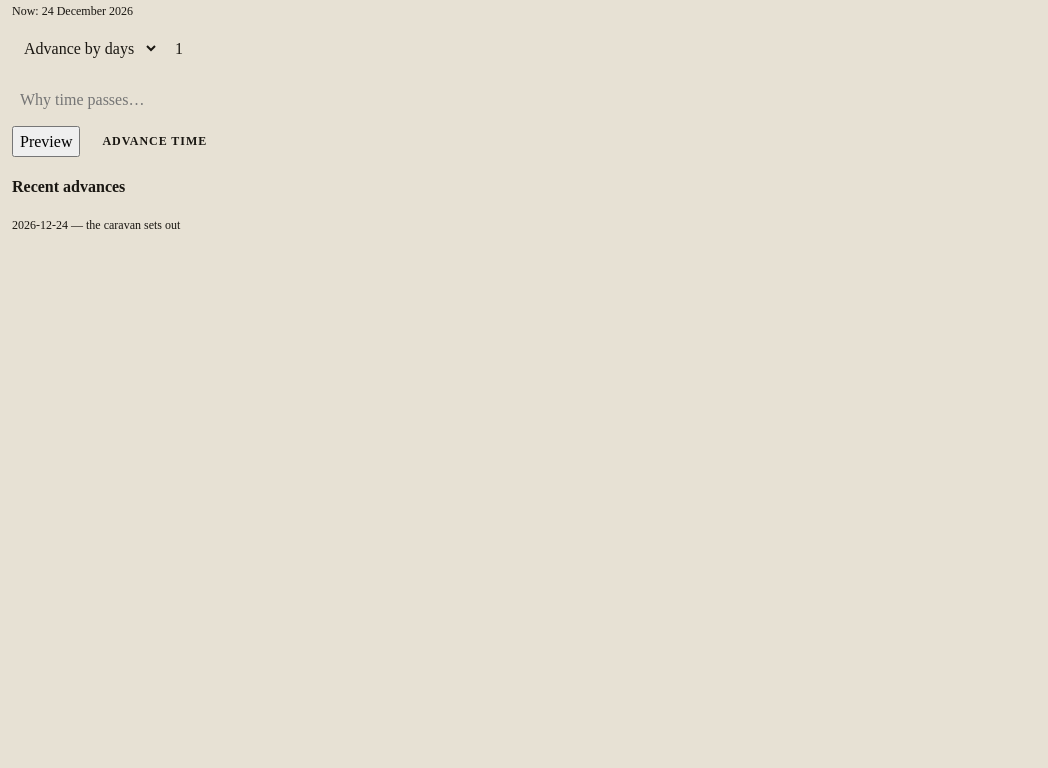
Test case: advances by days with the reason, then reports what it crossed
Expected: the text "Now: 24 December 2026" is shown, [12,4,133,18]
Replace the text in the number field named "Days" with "3": [602, 48] box [167,31,1036,66]
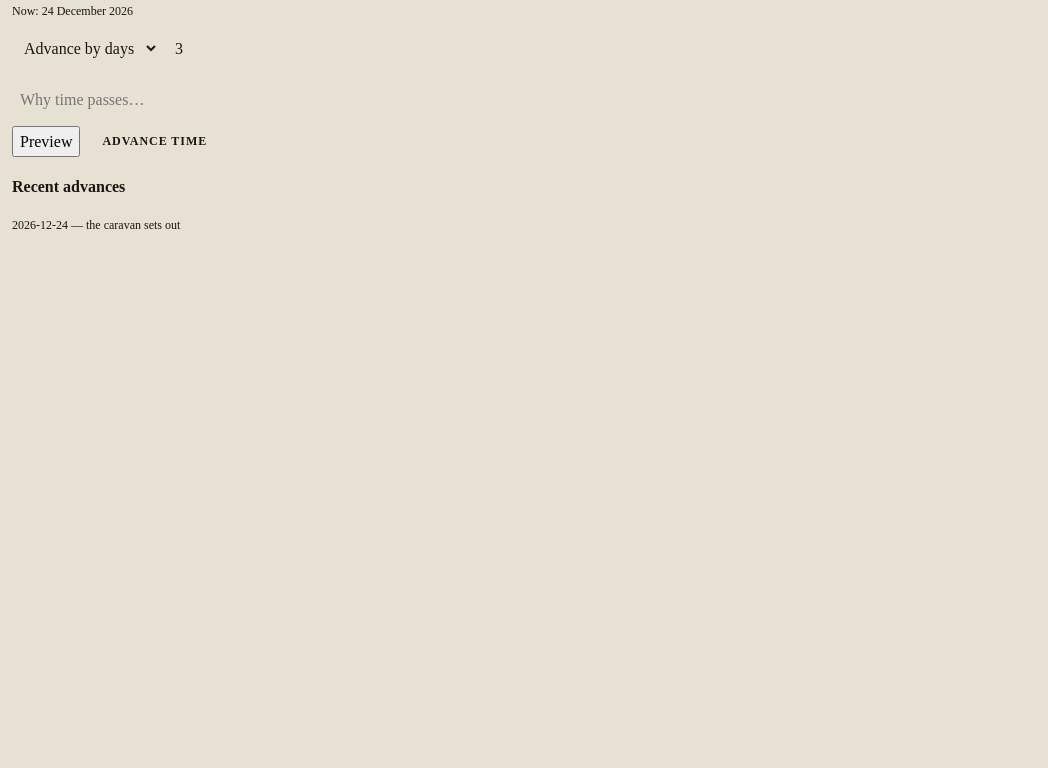
In the field named "Reason": [120, 100] box [12,86,228,114], type "three days of rain"
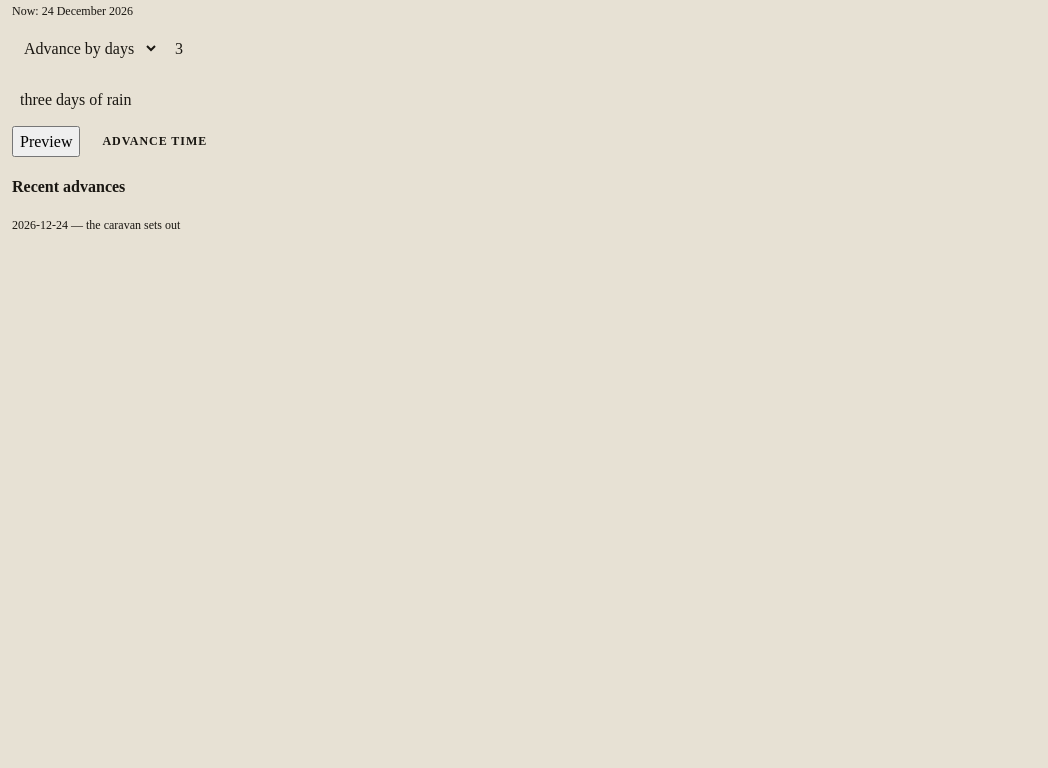
Click the button "Advance time": [155, 142] box [88,126,221,157]
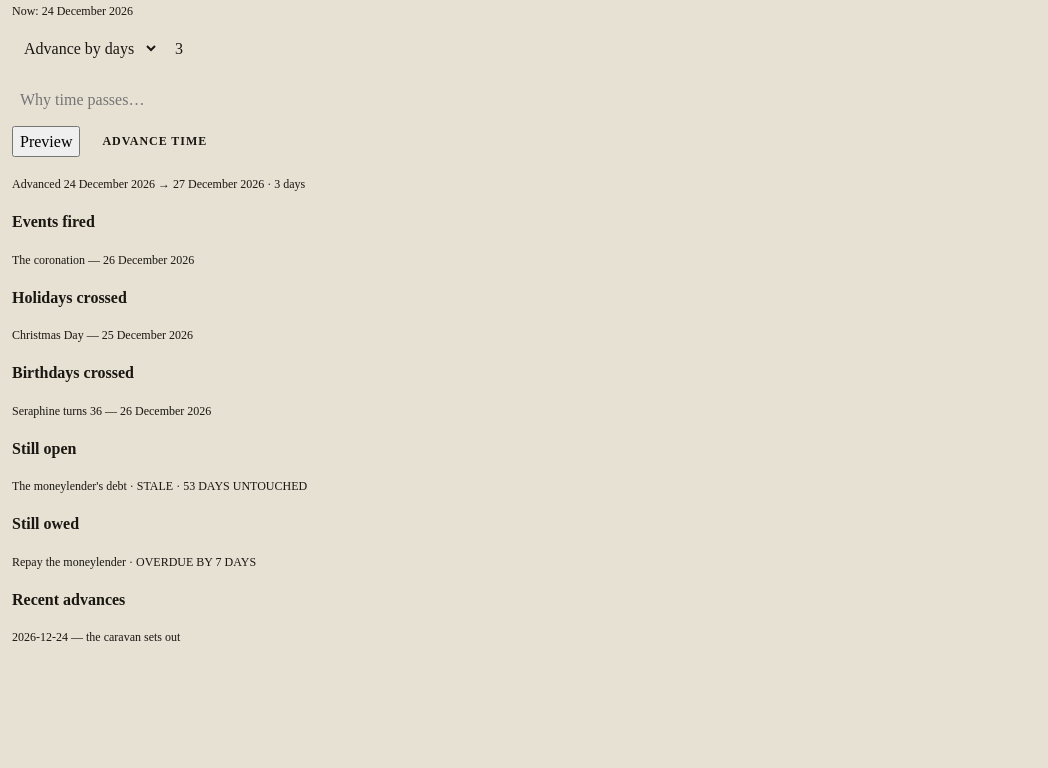
Now the text "Advanced 24 December 2026 → 27 December 2026 · 3 days" is shown, box [12,177,305,191]
